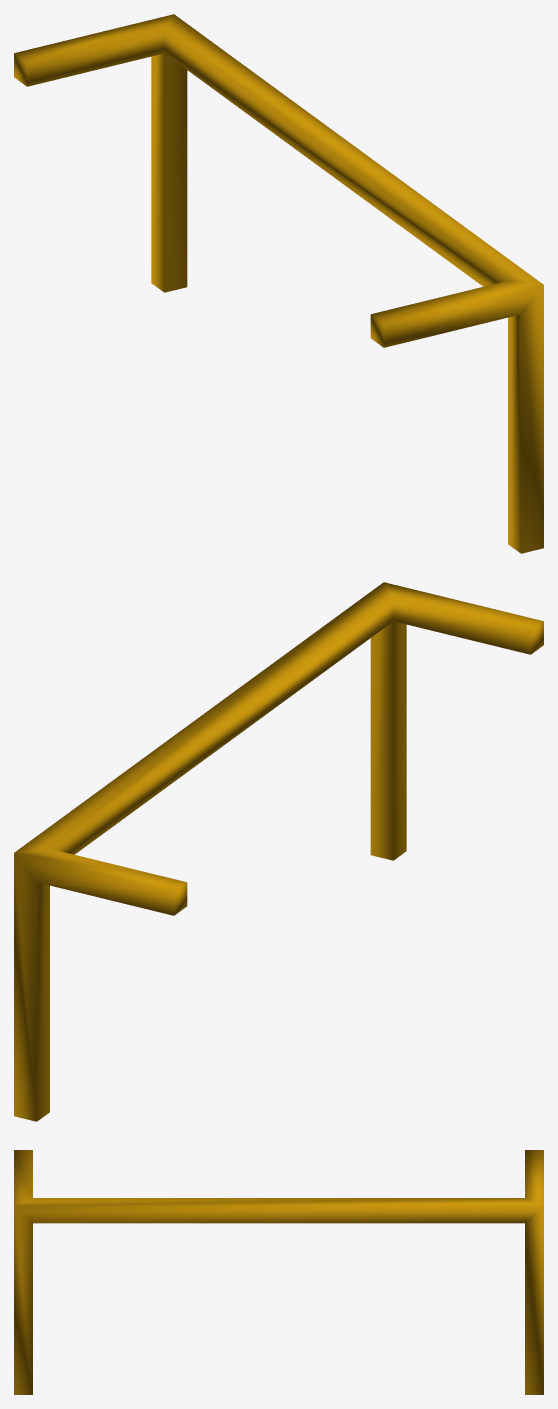
The model's file is Goalsopponentback.003.dae.
3 renders of one model, top to bottom at view 1: azimuth 30°, elevation 25°; view 2: azimuth 150°, elevation 25°; view 3: azimuth 270°, elevation 25°, orthographic. The views are drawn at different scales.
Visible parts, largest first — view 1: visual_0_field_1_7; view 2: visual_0_field_1_7; view 3: visual_0_field_1_7.
Part boxes in pixels (x1,y1,x2,y2): visual_0_field_1_7: [14, 14, 543, 553]; visual_0_field_1_7: [14, 582, 543, 1121]; visual_0_field_1_7: [14, 1150, 543, 1394].
Size of the model in its own units: 0.7 by 2.8 by 1.1.
